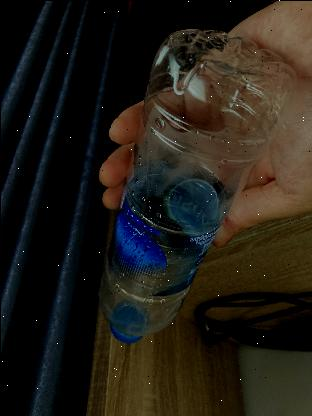Plastic Bottle: (94, 29, 298, 346)
